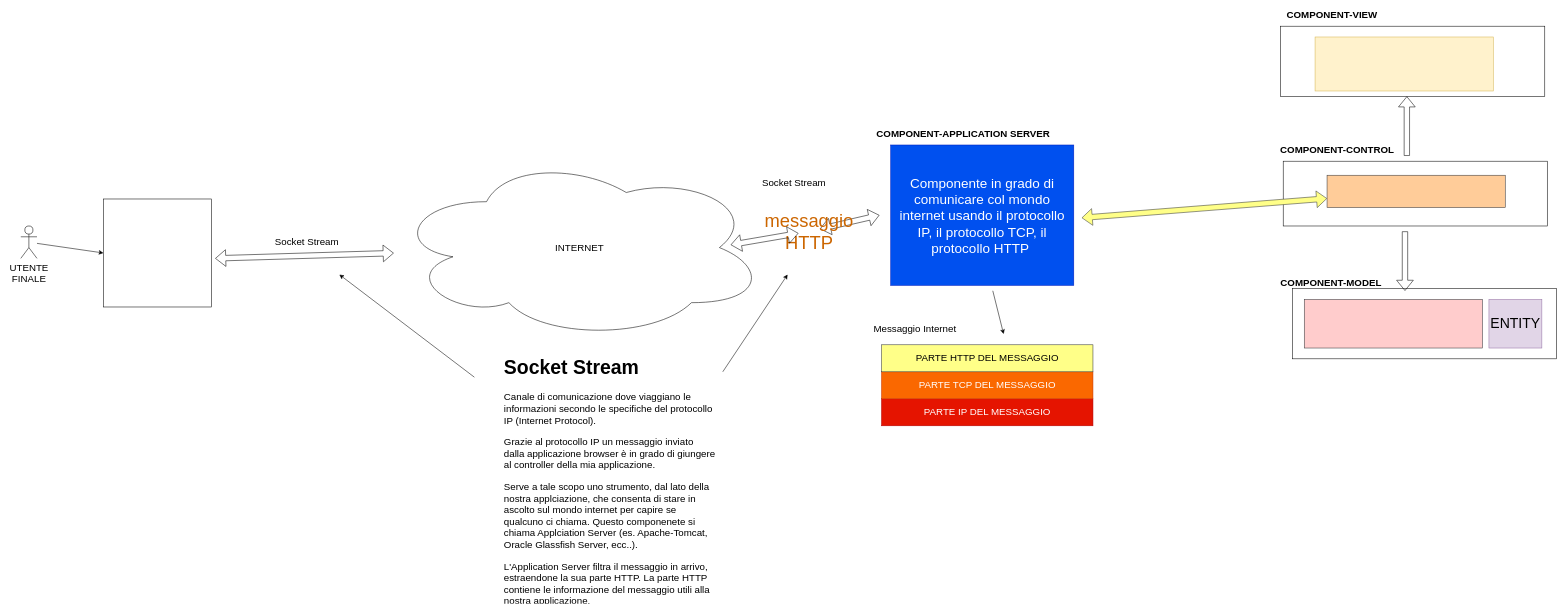
This 1566x616 diagram has some shape labels left out. Each missing label, with the centre of its shape:
"BROWSER" goes at [157,252].
"CONTROLLER (Servlet)" goes at [1416,191].
"DAO" goes at [1393,323].
"VIEW (JSP, JSF, HTML, CSS)" goes at [1404,63].
